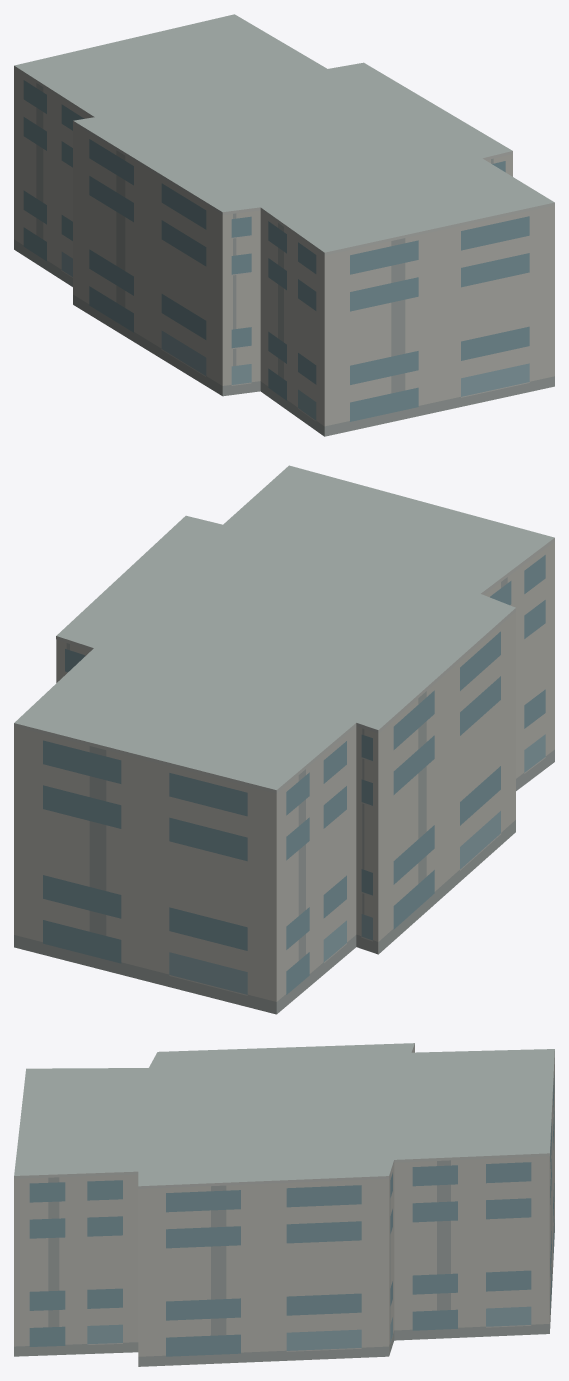
Rendered from residential-f7f9b1b2-5e40-4c78-b824-f1a50e0b54fe.glb.
3 views of the same model, one above another, from view 1: azimuth 30°, elevation 25°; view 2: azimuth 150°, elevation 25°; view 3: azimuth 270°, elevation 25° (orthographic). The views are drawn at different scales.
Parts seen in each view (by area): view 1: residential-f7f9b1b2-5e40-4c78-b824-f1a50e0b54fe.tmp; view 2: residential-f7f9b1b2-5e40-4c78-b824-f1a50e0b54fe.tmp; view 3: residential-f7f9b1b2-5e40-4c78-b824-f1a50e0b54fe.tmp.
Boxes of the visible parts, x1=… form: residential-f7f9b1b2-5e40-4c78-b824-f1a50e0b54fe.tmp: x1=14, y1=14, x2=554, y2=436; residential-f7f9b1b2-5e40-4c78-b824-f1a50e0b54fe.tmp: x1=14, y1=465, x2=554, y2=1014; residential-f7f9b1b2-5e40-4c78-b824-f1a50e0b54fe.tmp: x1=14, y1=1043, x2=554, y2=1366.
Size of the model in its own units: 25.94 by 15.25 by 41.4.
